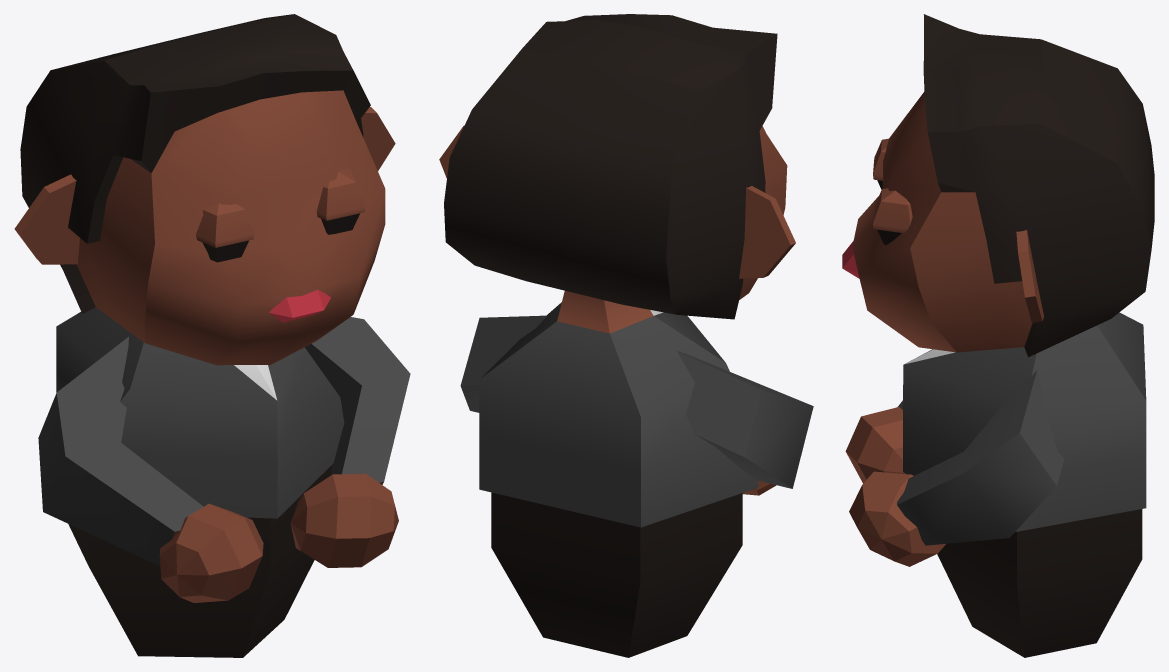
Rendered from NPC_re color.fbx.
3 views of the same model, side by side, from view 1: azimuth 30°, elevation 25°; view 2: azimuth 150°, elevation 25°; view 3: azimuth 270°, elevation 25° (orthographic). The views are drawn at different scales.
Parts seen in each view (by area): view 1: char_lowPoly01.001; view 2: char_lowPoly01.001; view 3: char_lowPoly01.001.
Boxes of the visible parts, box(x1,y1,x2,y2) form: char_lowPoly01.001: box(14, 14, 410, 657); char_lowPoly01.001: box(439, 14, 813, 657); char_lowPoly01.001: box(842, 14, 1154, 657).
Size of the model in its own units: 194 by 303 by 153.
